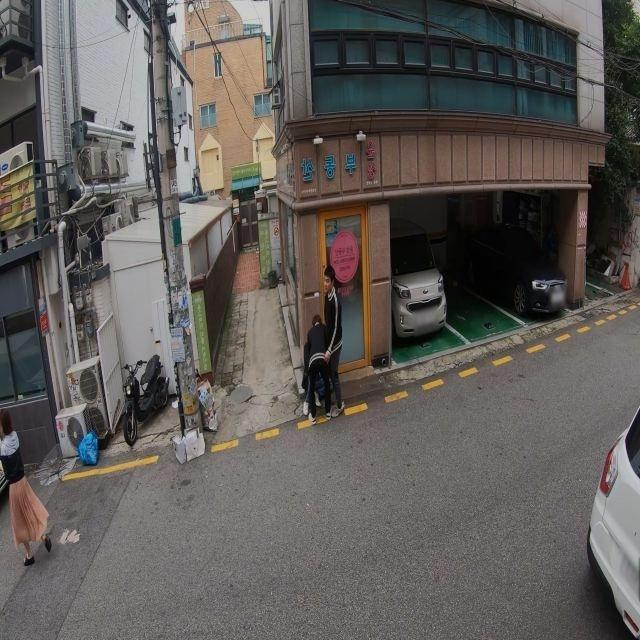fight: (300, 265, 345, 422)
